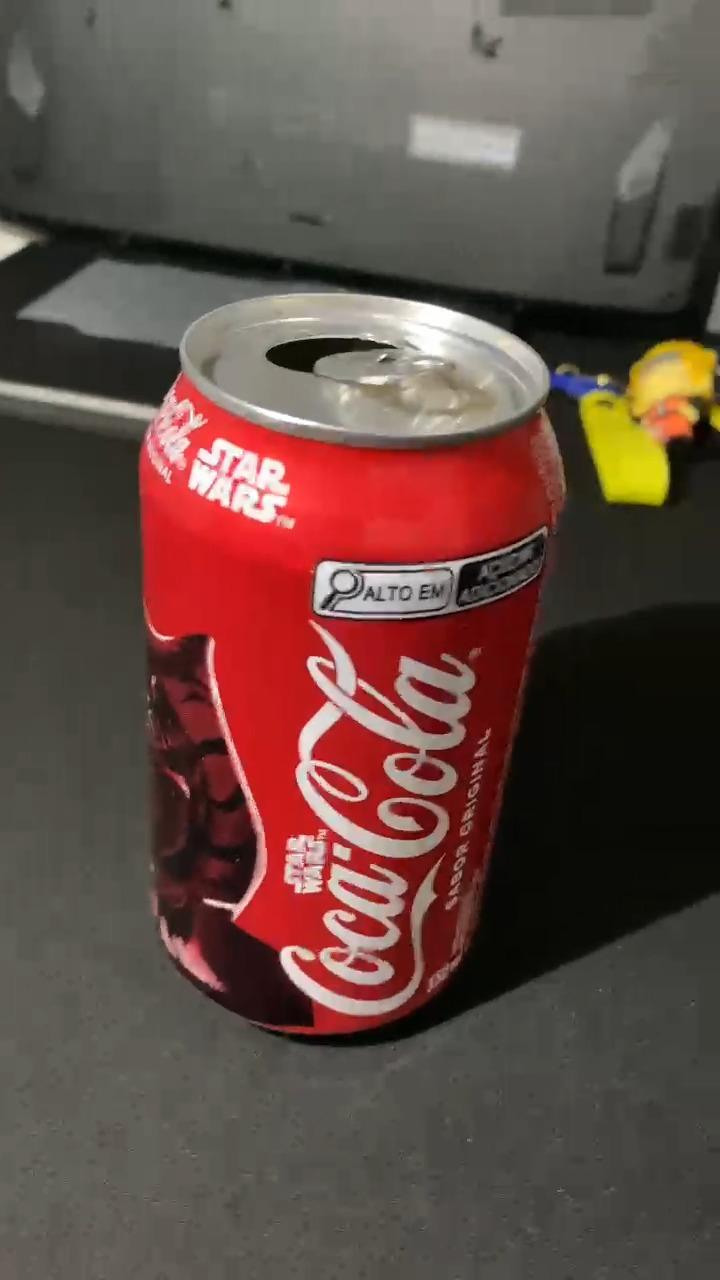coke: (139, 294, 566, 1033)
